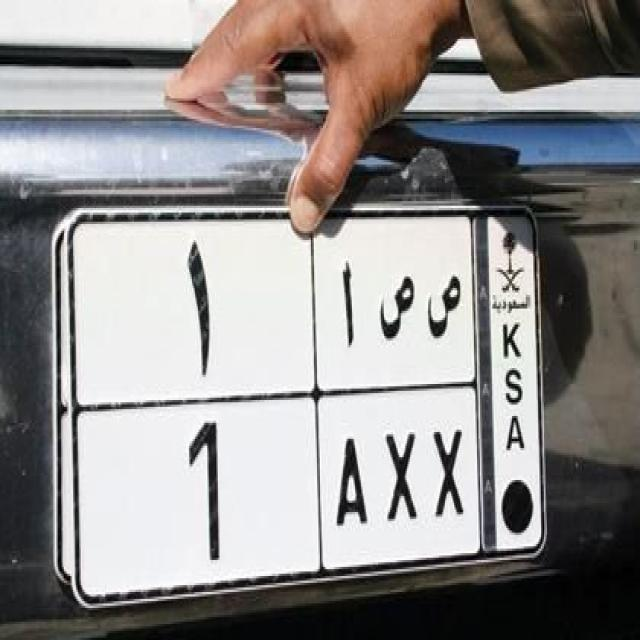license_plate: (120, 412, 482, 564)
